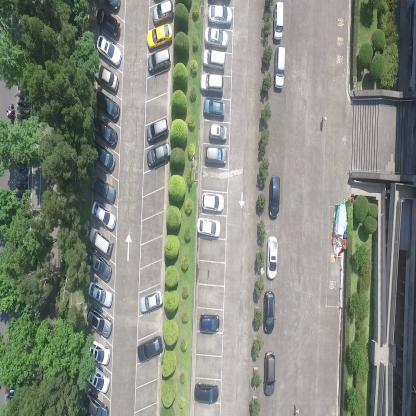car: (90, 88, 120, 121), (83, 246, 111, 281), (92, 113, 119, 149), (95, 35, 123, 69), (88, 140, 116, 174), (93, 60, 120, 93), (87, 227, 114, 259), (83, 364, 111, 394), (90, 200, 117, 231), (85, 306, 112, 336), (146, 21, 172, 52), (138, 334, 164, 364), (87, 279, 113, 309), (95, 8, 120, 39), (91, 175, 116, 204), (138, 288, 165, 314), (146, 141, 171, 169), (85, 338, 110, 366), (147, 48, 170, 78), (152, 0, 176, 28), (272, 47, 286, 93), (262, 289, 276, 335), (265, 235, 279, 279), (81, 393, 109, 415), (268, 174, 281, 220), (146, 114, 169, 140), (263, 350, 275, 398), (208, 4, 232, 26), (205, 26, 229, 48), (204, 96, 226, 120), (201, 190, 225, 212), (194, 383, 220, 403), (202, 48, 225, 70), (196, 218, 221, 238), (205, 146, 227, 168), (272, 1, 284, 41), (198, 312, 219, 333), (201, 73, 224, 92), (209, 123, 228, 142), (97, 0, 121, 15)
